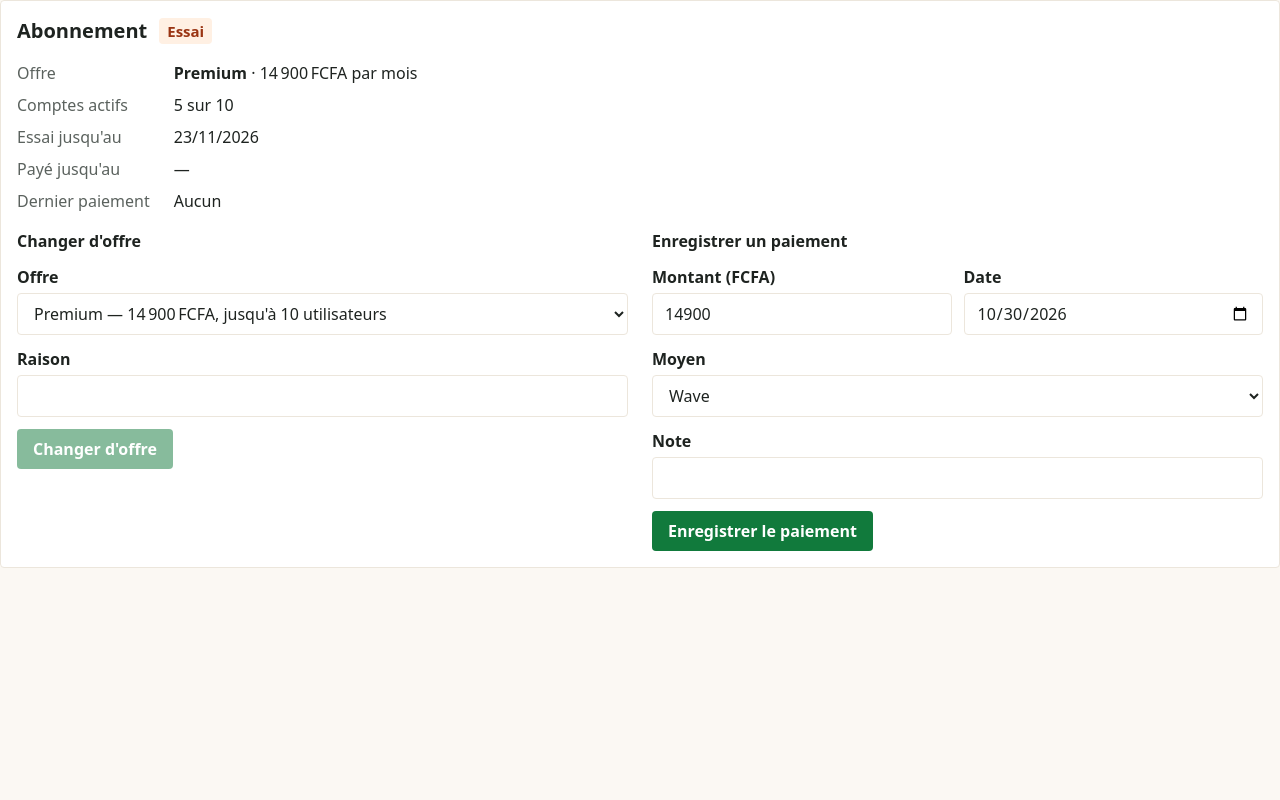
Scenario: carte abonnement › une descente refusée dit combien désactiver
Select "Starter — 4 900 FCFA, jusqu'à 3 utilisateurs" in the dropdown labelled "Offre": (322, 314) [17, 293, 628, 335]
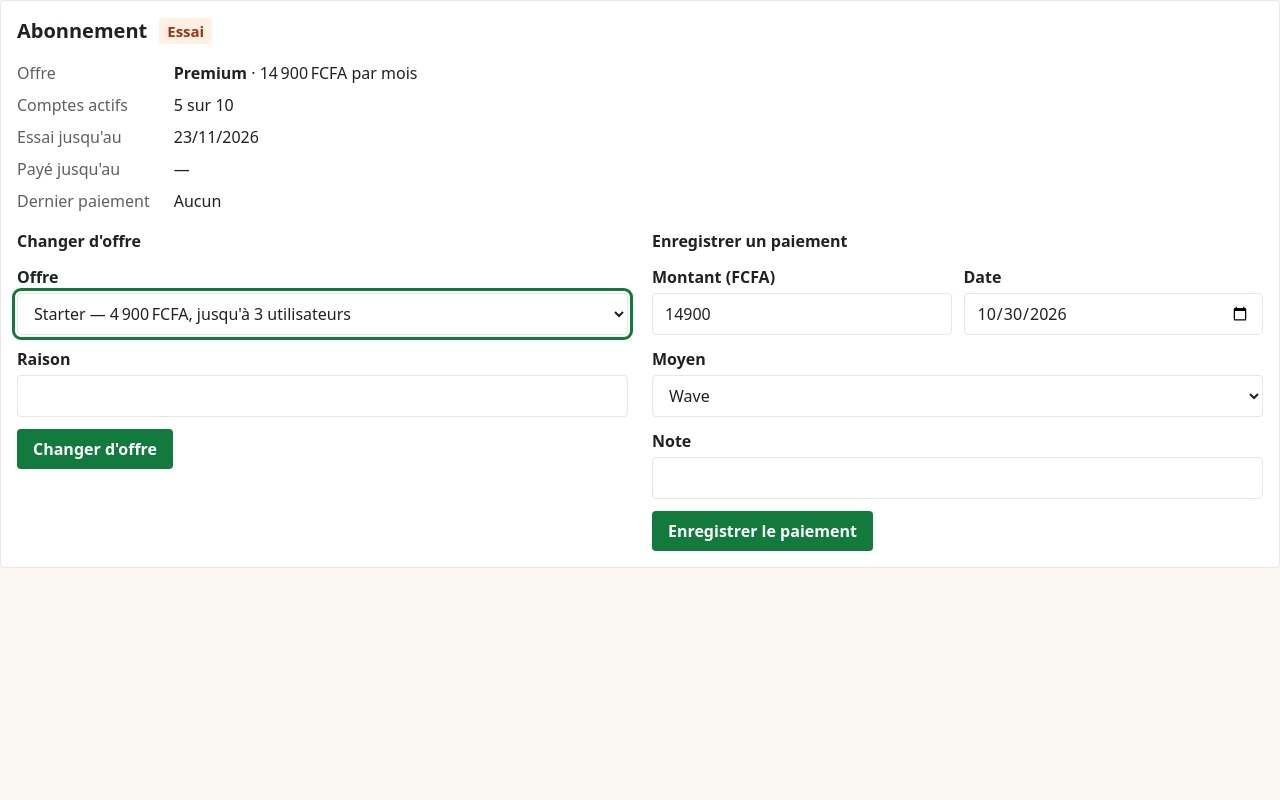
In the field labelled "Raison": (322, 396) [17, 375, 628, 417], type "Le client veut payer moins"
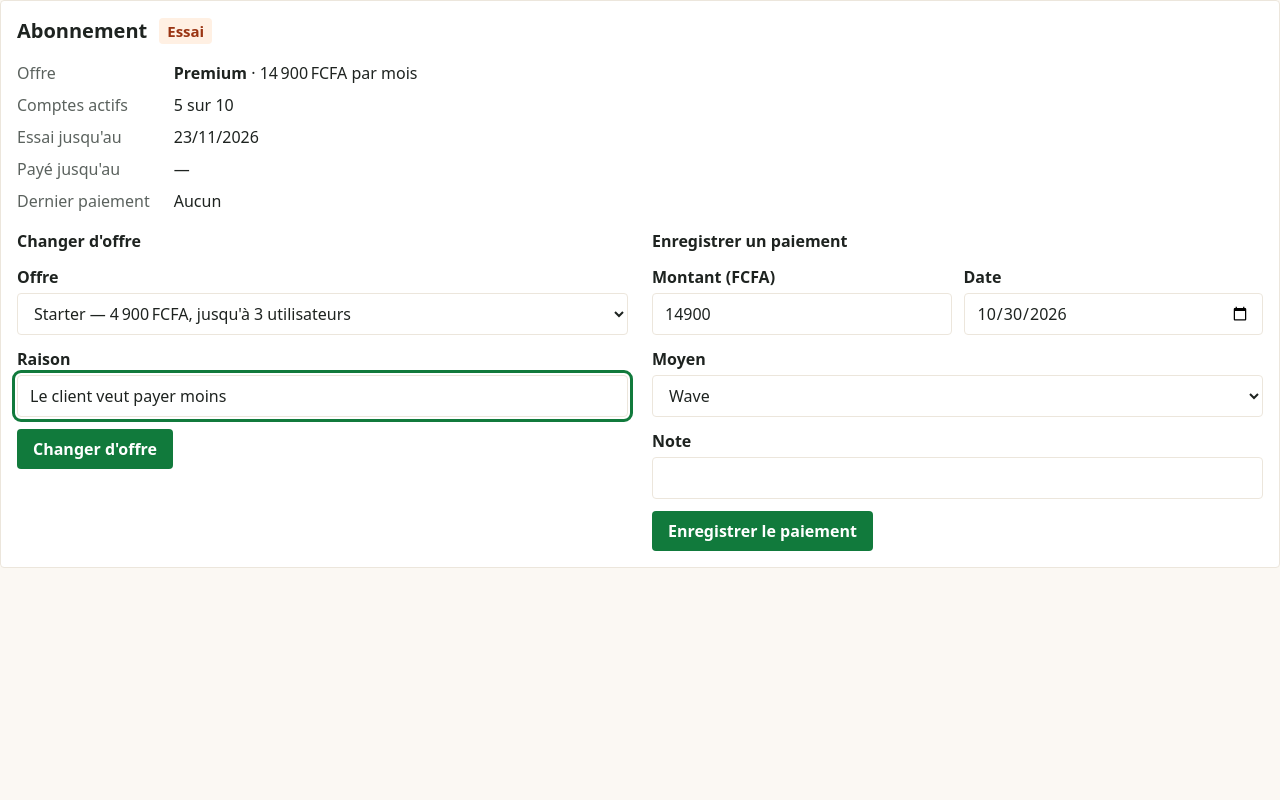
Click the button "Changer d'offre": (95, 449) [17, 429, 173, 469]
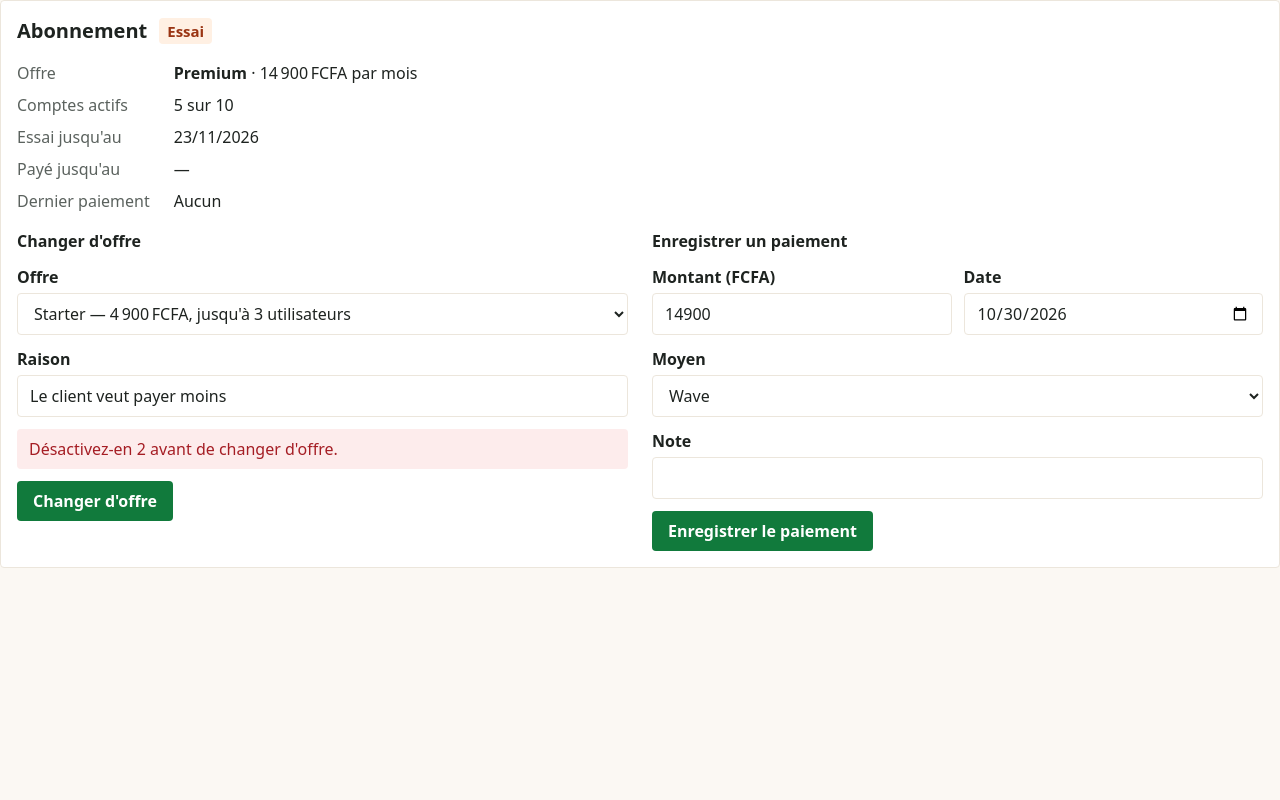
Result: the message shows "Désactivez-en 2" at [29, 438, 338, 460]
